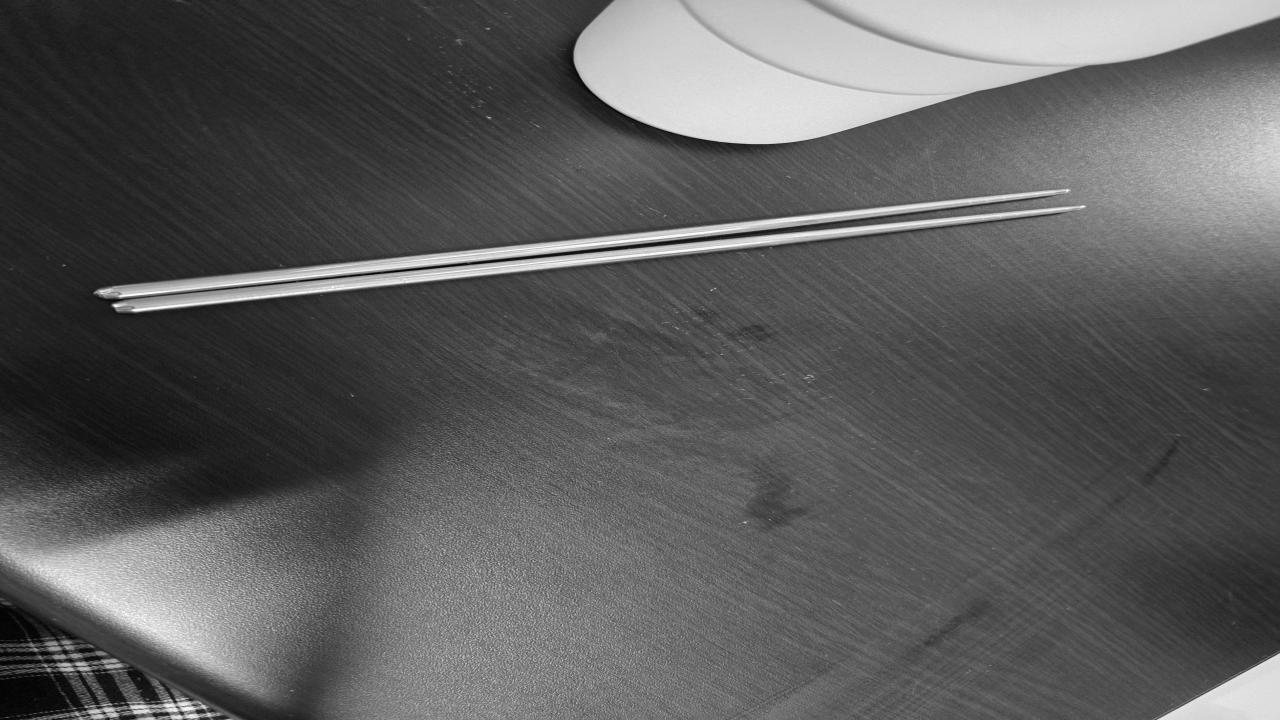chopstick: (105, 190, 1092, 310)
